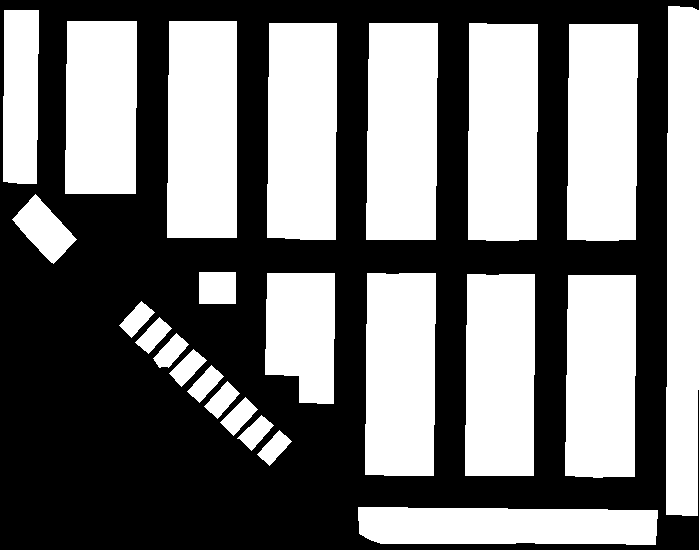parkingspot: (666, 6, 699, 515), (358, 507, 657, 544), (366, 23, 405, 239), (567, 24, 605, 240), (167, 21, 204, 237), (400, 23, 437, 239), (500, 24, 537, 240), (565, 275, 604, 477), (468, 23, 504, 240), (200, 21, 236, 237), (300, 23, 336, 239), (601, 24, 637, 240), (267, 23, 303, 238), (365, 273, 403, 475), (465, 274, 503, 475), (399, 273, 435, 475), (599, 275, 635, 476), (499, 274, 534, 475), (65, 21, 104, 193), (99, 21, 136, 193), (3, 10, 38, 183), (299, 273, 334, 403), (12, 194, 76, 263), (265, 273, 303, 375), (220, 397, 257, 435), (169, 349, 206, 386), (187, 365, 223, 402), (135, 317, 171, 353), (204, 381, 239, 418), (237, 415, 273, 450), (119, 301, 154, 337), (257, 430, 291, 465), (153, 333, 188, 367), (199, 272, 235, 303)
